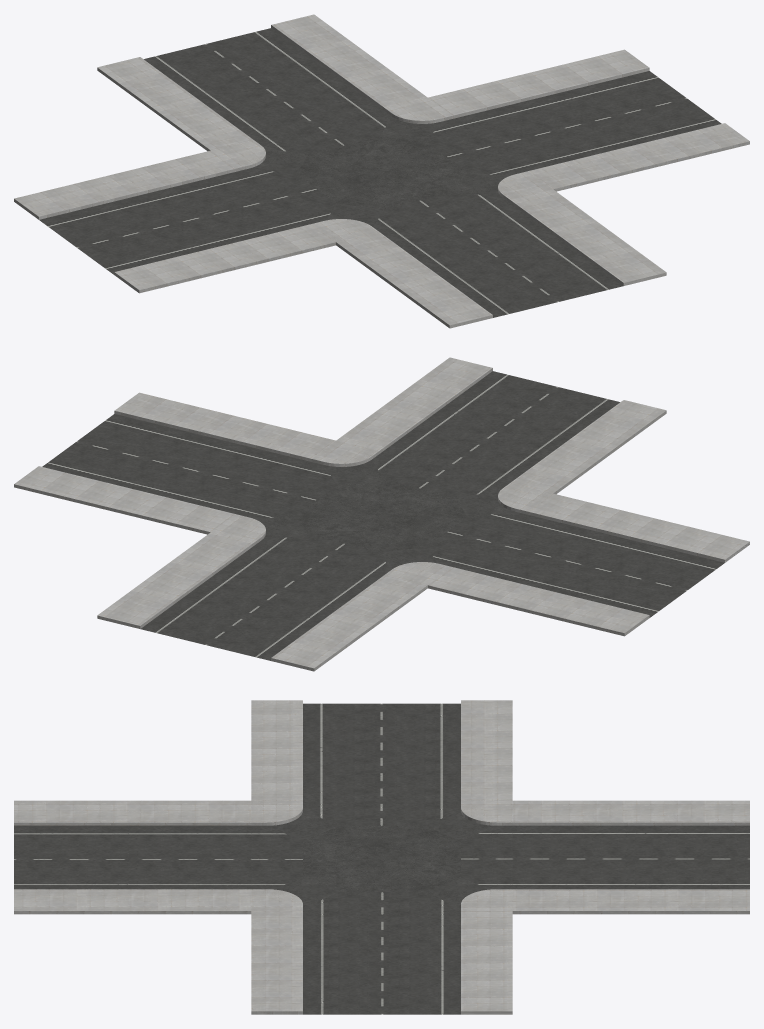
Rendered from X_Junction.fbx.
3 renders of one model, top to bottom at view 1: azimuth 30°, elevation 25°; view 2: azimuth 150°, elevation 25°; view 3: azimuth 270°, elevation 25°, orthographic. The views are drawn at different scales.
Visible parts, largest first — view 1: Plane; view 2: Plane; view 3: Plane.
Boxes of the visible parts, x1,y1,x2,y2 form: Plane: (14, 14, 749, 328); Plane: (14, 357, 749, 671); Plane: (14, 700, 749, 1014).
Bounding box in the file's own units: 21797 × 108 × 21797.
